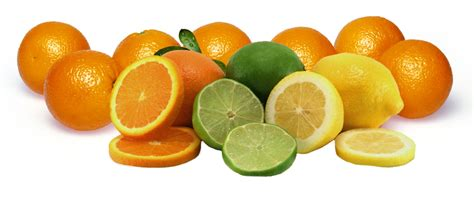orange: (42, 49, 121, 131), (376, 38, 454, 119), (15, 19, 92, 95), (335, 17, 405, 55), (185, 19, 251, 55), (113, 27, 179, 62), (270, 27, 333, 63)
